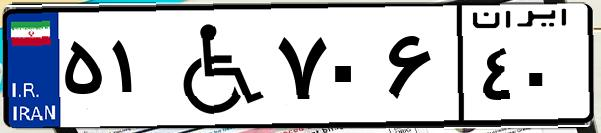0: (330, 28, 385, 110), (525, 38, 570, 115)
1: (110, 28, 158, 98)
4: (475, 38, 525, 113)
5: (57, 26, 110, 100)
6: (385, 28, 445, 110)
7: (270, 28, 330, 110)
ژ (معلولین و جانبازان): (158, 12, 270, 120)
